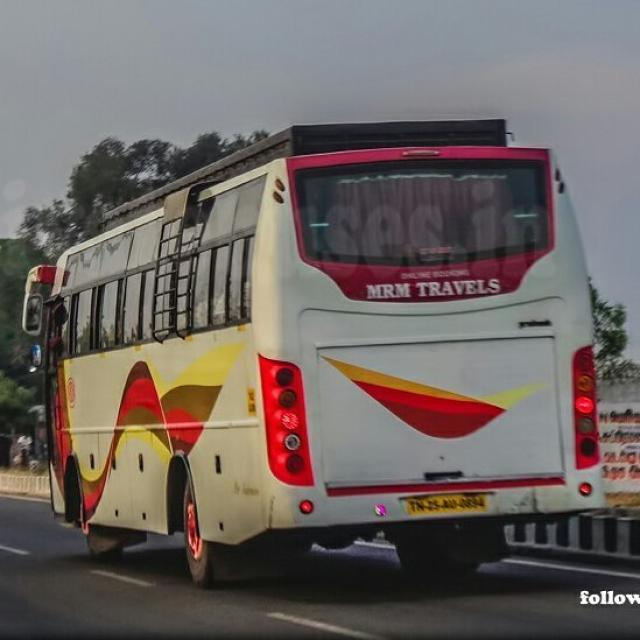Bus: (19, 118, 600, 586)
